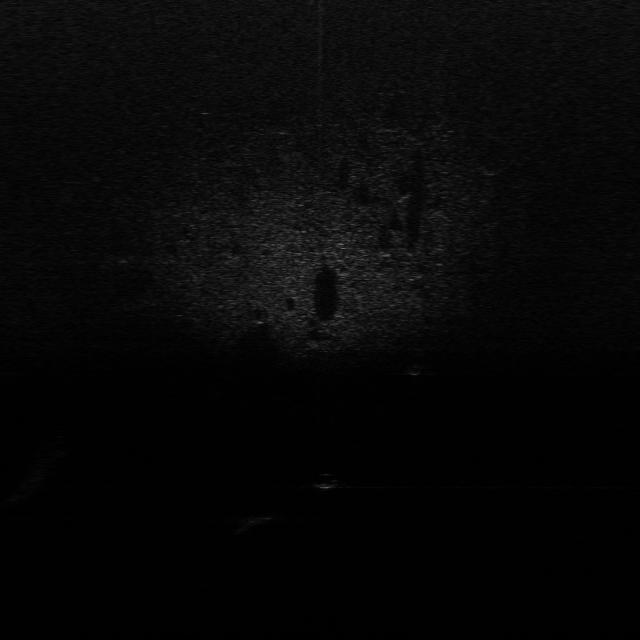ball: (311, 471, 343, 491)
square cage: (231, 508, 288, 528)
tyre: (406, 344, 432, 376)
